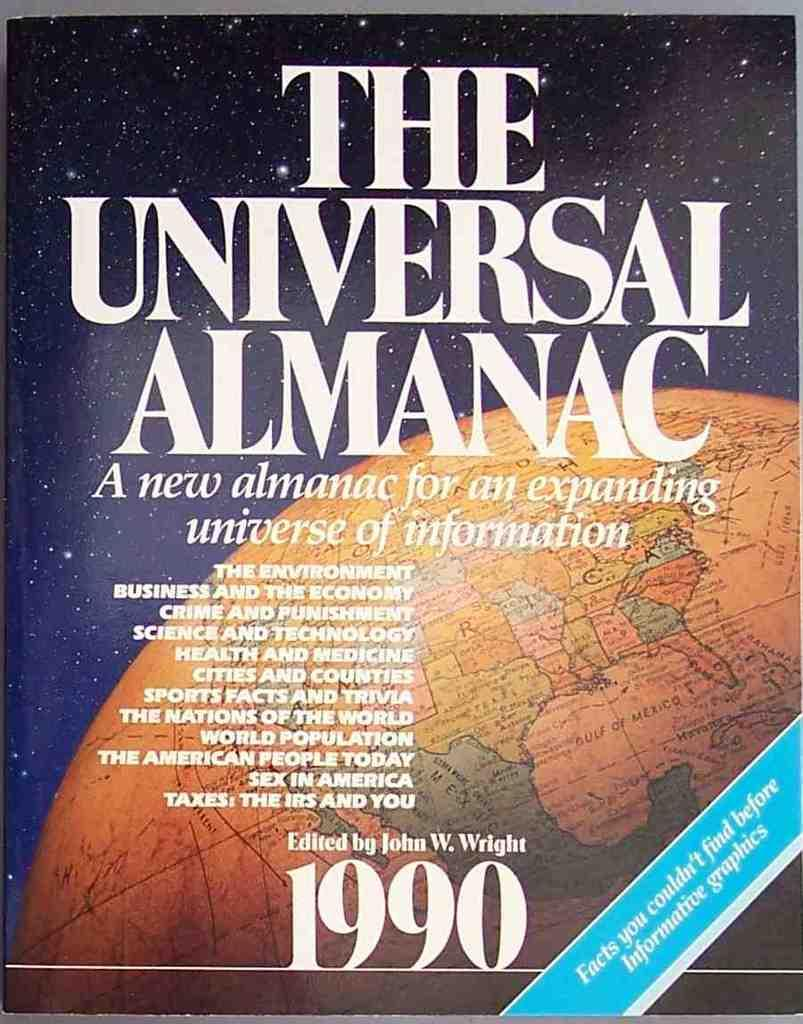book: (0, 6, 802, 1023)
